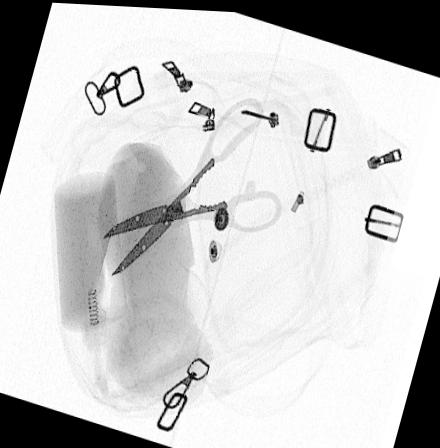Scissors: (101, 94, 282, 276)
